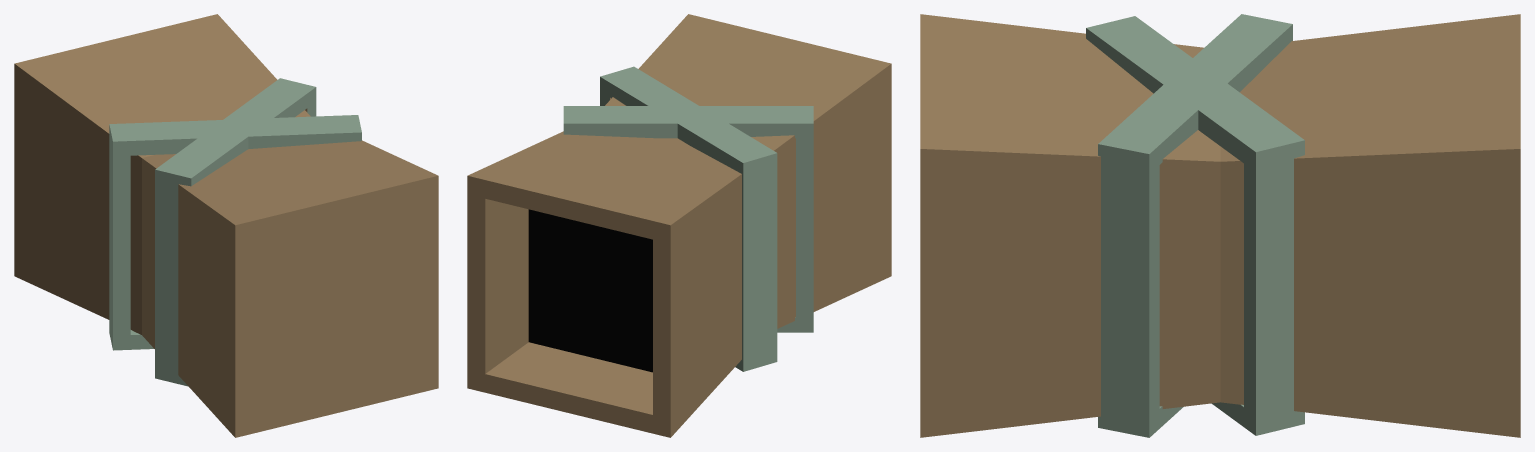
Rendered from rock_slinger_barrel.fbx.
3 views of the same model, side by side, from view 1: azimuth 30°, elevation 25°; view 2: azimuth 150°, elevation 25°; view 3: azimuth 270°, elevation 25° (orthographic). The views are drawn at different scales.
Visible parts, largest first — view 1: barrel; view 2: barrel; view 3: barrel.
Part boxes in pixels (x1,y1,x2,y2): barrel: (14, 14, 438, 437); barrel: (467, 14, 891, 437); barrel: (920, 14, 1520, 437).
Bounding box in the file's own units: 26 × 24.99 × 47.04.
Materials: 1 (1 with a texture image).
